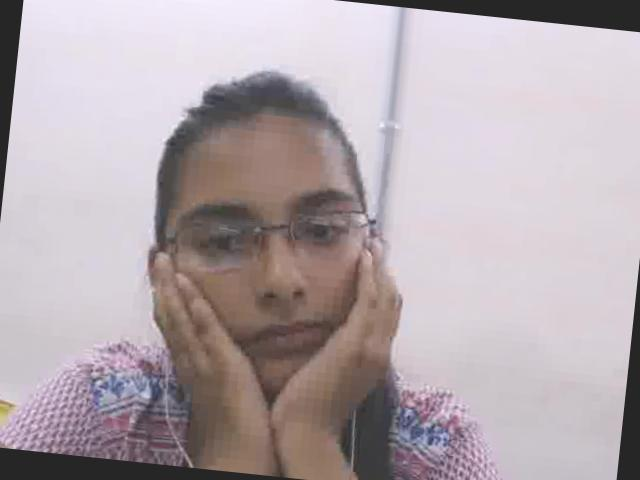bosan: (152, 116, 378, 396)
